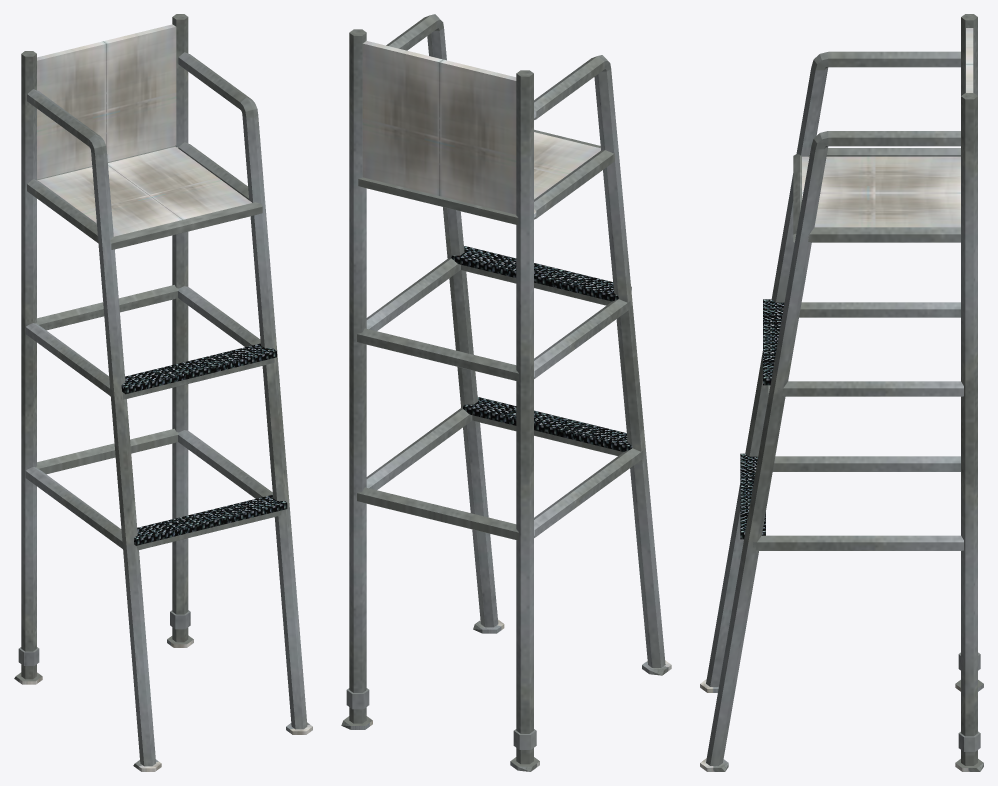
Rendered from Overlook01.obj.
3 renders of one model, left to right at view 1: azimuth 30°, elevation 25°; view 2: azimuth 150°, elevation 25°; view 3: azimuth 270°, elevation 25°, orthographic. The views are drawn at different scales.
Parts seen in each view (by area): view 1: Overlook01; view 2: Overlook01; view 3: Overlook01.
Part boxes in pixels (x1,y1,x2,y2): Overlook01: [14, 14, 312, 771]; Overlook01: [341, 14, 671, 771]; Overlook01: [700, 14, 983, 771].
Bounding box in the file's own units: 1.25 × 4.35 × 1.67.
